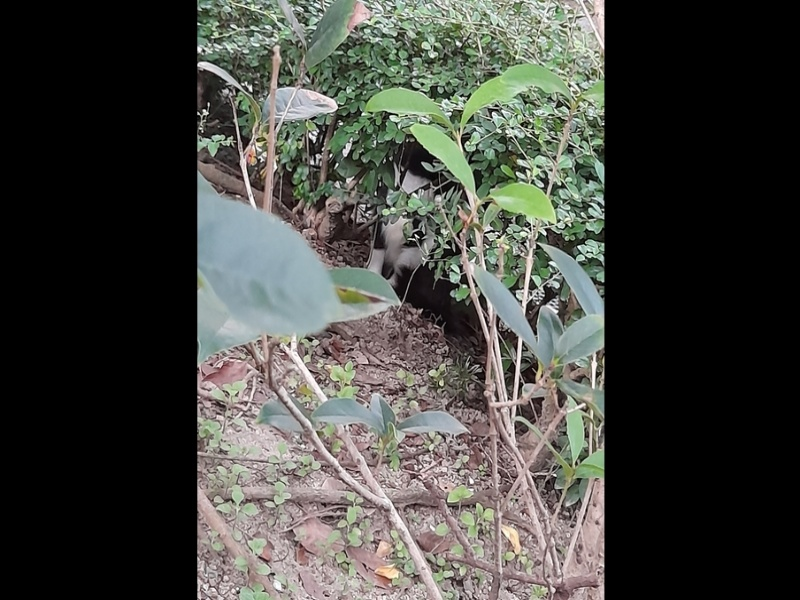cat: (361, 124, 460, 296)
